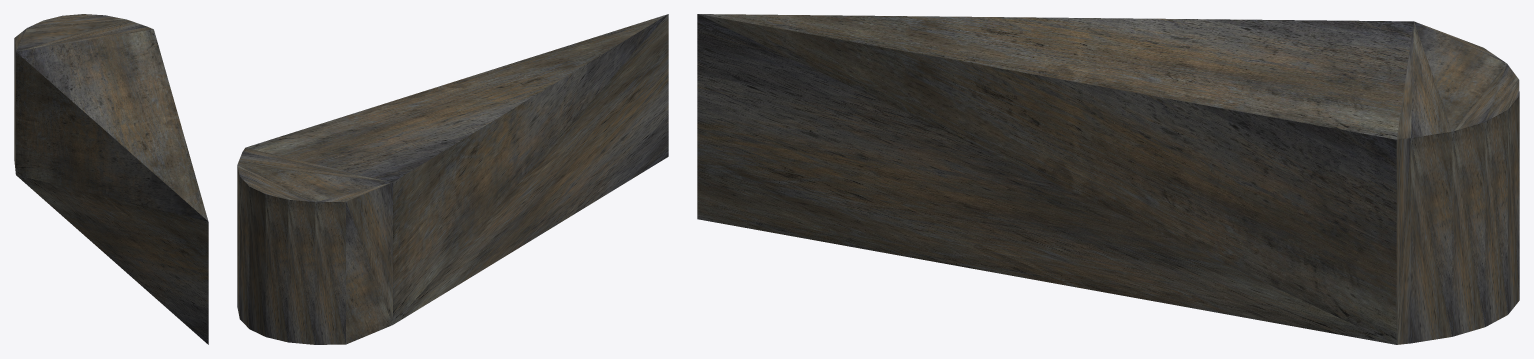
File: fthis.obj
The picture shows the model from 3 angles, left to right: view 1: azimuth 30°, elevation 25°; view 2: azimuth 150°, elevation 25°; view 3: azimuth 270°, elevation 25°; orthographic projection. The views are drawn at different scales.
Parts seen in each view (by area): view 1: Cube.001_Cube.006; view 2: Cube.001_Cube.006; view 3: Cube.001_Cube.006.
Part boxes in pixels (<box>): Cube.001_Cube.006: <box>14,14,208,344</box>; Cube.001_Cube.006: <box>237,14,668,344</box>; Cube.001_Cube.006: <box>697,14,1519,344</box>.
Size of the model in its own units: 0.9752 by 0.7787 by 2.68.
1 material, 1 textured.
